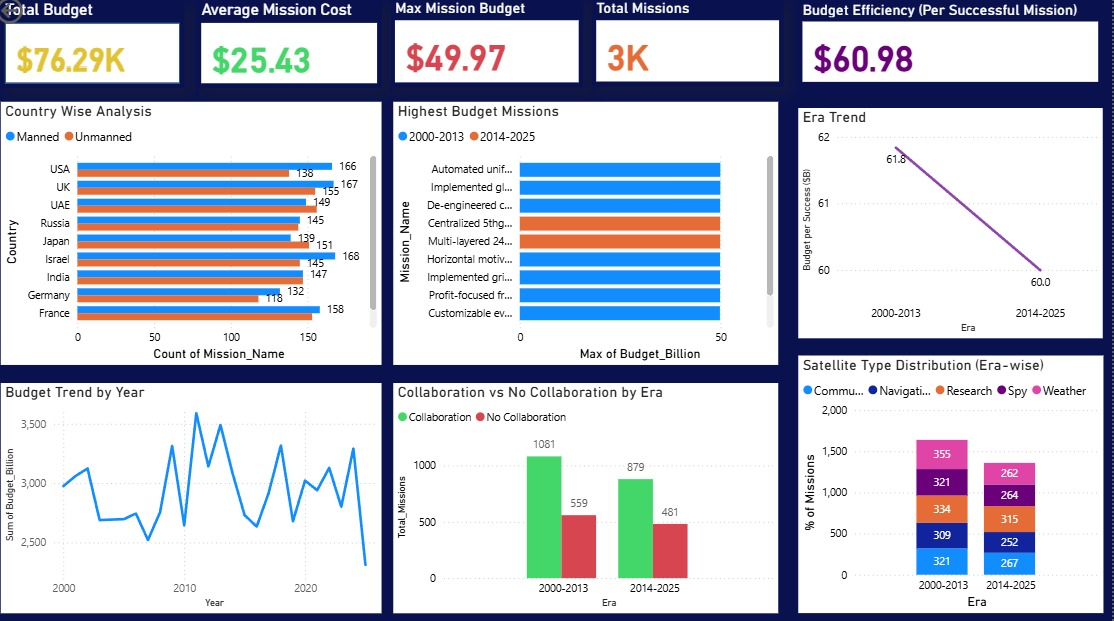

This screenshot's page, from the dashboard's own definition file:
{"tool":"powerbi","page":{"name":"Page 2","canvas":[1280,720],"ordinal":1},"visuals":[{"type":"cardVisual","title":"Total Budget","fields":{"Data":["Sum(space_missions missions (2).Budget_Billion)"]},"box":[10,8,210,100],"z":0},{"type":"actionButton","box":[0,0,100,40],"z":1000},{"type":"cardVisual","title":"Average Mission Cost","fields":{"Data":["Avg(space_missions missions (2).Budget_Billion)"]},"box":[234,8,211,100],"z":2000},{"type":"cardVisual","title":"Max Mission Budget","fields":{"Data":["Max(space_missions missions (2).Budget_Billion)"]},"box":[456,7,220,101],"z":3000},{"type":"cardVisual","title":"Total Missions","fields":{"Data":["CountNonNull(space_missions missions (2).Mission_Name)"]},"box":[686.1,6.9,219.6,100.2],"z":4000},{"type":"clusteredBarChart","title":"Country Wise Analysis","fields":{"Category":["space_missions missions (2).Country"],"Y":["CountNonNull(space_missions missions (2).Mission_Name)"],"Series":["space_missions missions (2).Mission_Type"]},"box":[10,124,435,301],"z":5000},{"type":"barChart","title":"Highest Budget Missions","fields":{"Category":["space_missions missions (2).Mission_Name"],"Series":["space_missions missions (2).Era"],"Y":["Max(space_missions missions (2).Budget_Billion)"]},"box":[458,124,440,301],"z":6000},{"type":"lineChart","title":"Budget Trend by Year","fields":{"Category":["space_missions missions (2).Year"],"Y":["Sum(space_missions missions (2).Budget_Billion)"]},"box":[10,445,435,263],"z":7000},{"type":"clusteredColumnChart","title":"Collaboration vs No Collaboration by Era","fields":{"Category":["space_missions missions (2).Era"],"Series":["space_missions missions (2).Collaboration_Status"],"Y":["space_missions missions (2).Total_Missions"]},"box":[458,445,440,263],"z":8000},{"type":"cardVisual","title":"Budget Efficiency (Per Successful Mission)","fields":{"Data":["space_missions missions (2).Budget_Per_Success"]},"box":[922,8,348,99],"z":9000},{"type":"lineChart","title":"Era Trend","fields":{"Category":["space_missions missions (2).Era"],"Y":["space_missions missions (2).Budget_Per_Success"]},"box":[922,131,348,263],"z":10000},{"type":"columnChart","title":"Satellite Type Distribution (Era-wise)","fields":{"Category":["space_missions missions (2).Era"],"Y":["CountNonNull(space_missions missions (2).Mission_Name)"],"Series":["space_missions missions (2).Satellite_Type"]},"box":[921.4,414.3,348.6,294.3],"z":11000}]}

Visuals, with their boxes in screenshot pixels (x1, y1, x2, y2), scaled from the page's 1280x720 canvas onto the 1114x621 screenshot:
"Total Budget" cardVisual: [9,7,191,93]
actionButton: [0,0,87,34]
"Average Mission Cost" cardVisual: [204,7,387,93]
"Max Mission Budget" cardVisual: [397,6,588,93]
"Total Missions" cardVisual: [597,6,788,92]
"Country Wise Analysis" clusteredBarChart: [9,107,387,367]
"Highest Budget Missions" barChart: [399,107,782,367]
"Budget Trend by Year" lineChart: [9,384,387,611]
"Collaboration vs No Collaboration by Era" clusteredColumnChart: [399,384,782,611]
"Budget Efficiency (Per Successful Mission)" cardVisual: [802,7,1105,92]
"Era Trend" lineChart: [802,113,1105,340]
"Satellite Type Distribution (Era-wise)" columnChart: [802,357,1105,611]
